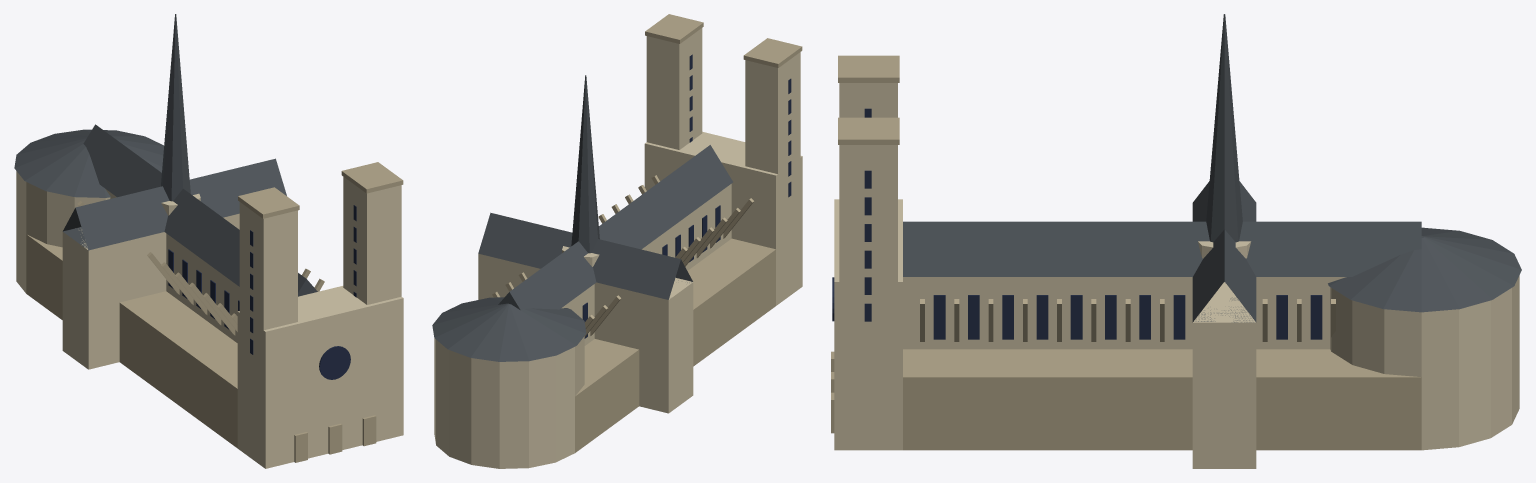
File: notre_dame.glb
3 renders of one model, left to right at view 1: azimuth 30°, elevation 25°; view 2: azimuth 150°, elevation 25°; view 3: azimuth 270°, elevation 25°, orthographic. The views are drawn at different scales.
Visible parts, largest first — view 1: Catedral.001; view 2: Catedral.001; view 3: Catedral.001.
Boxes of the visible parts, x1,y1,x2,y2 form: Catedral.001: (14,14,403,468); Catedral.001: (432,14,802,468); Catedral.001: (831,14,1521,468).
Size of the model in its own units: 58 by 89 by 141.
